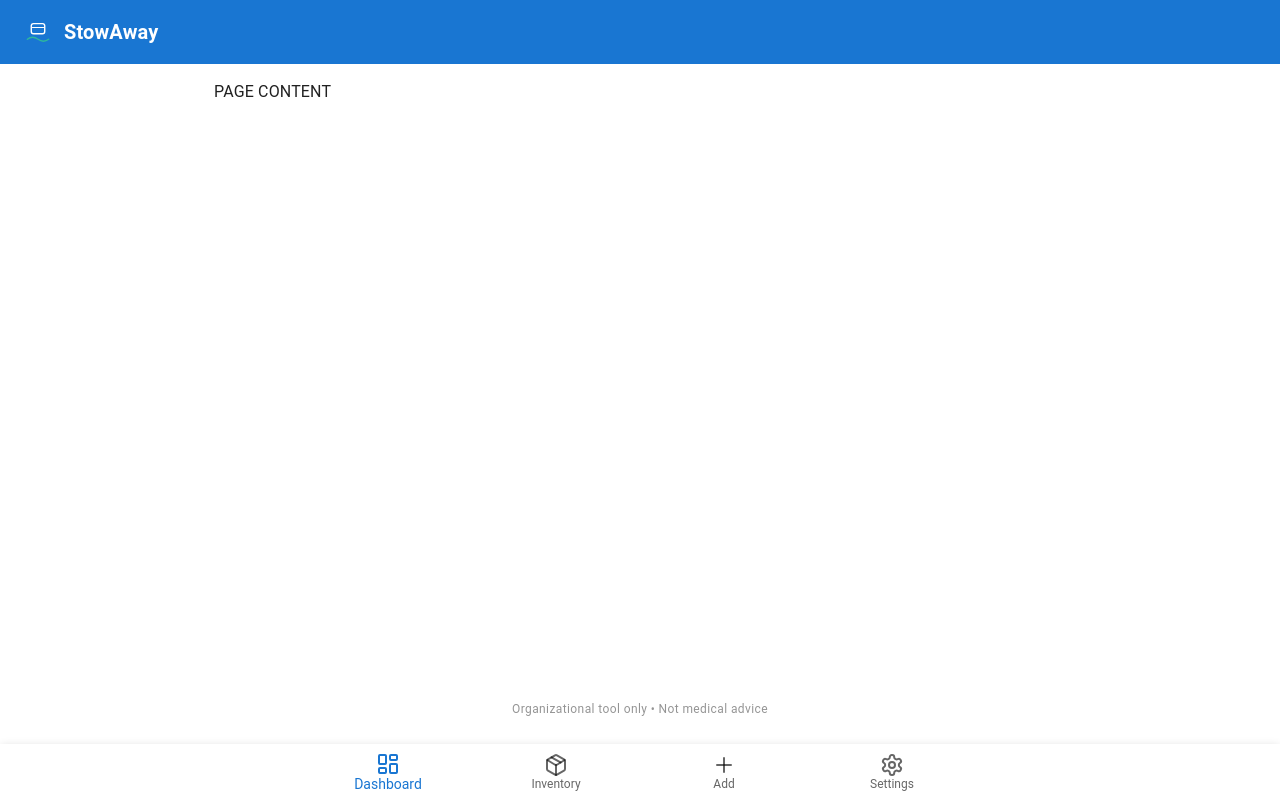
Test: AppShell › navigates to the inventory tab when clicked
What coordinates should you click on to do the following:
click the button "Inventory"
I would click on:
 (556, 772)
Its box is [472,744,640,799].
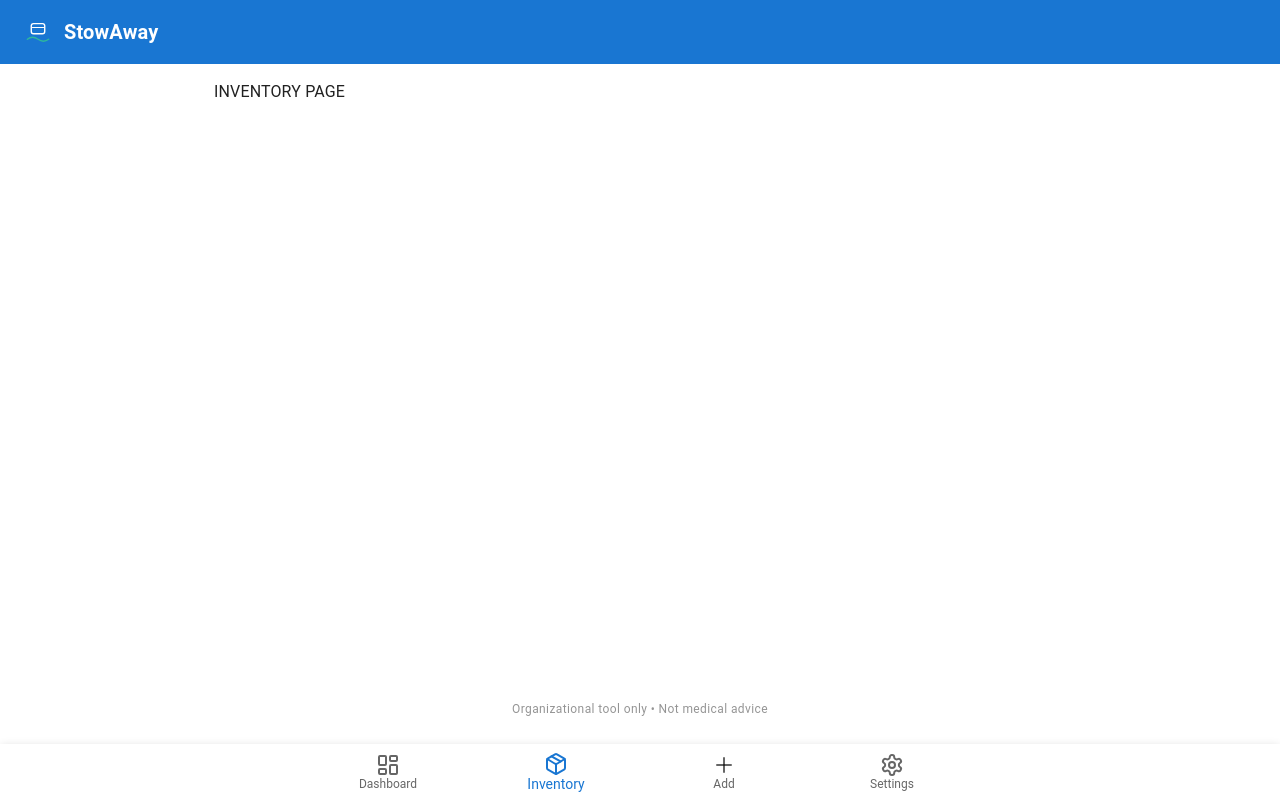
Check: the text "INVENTORY PAGE" is shown, box [214,82,345,101]
